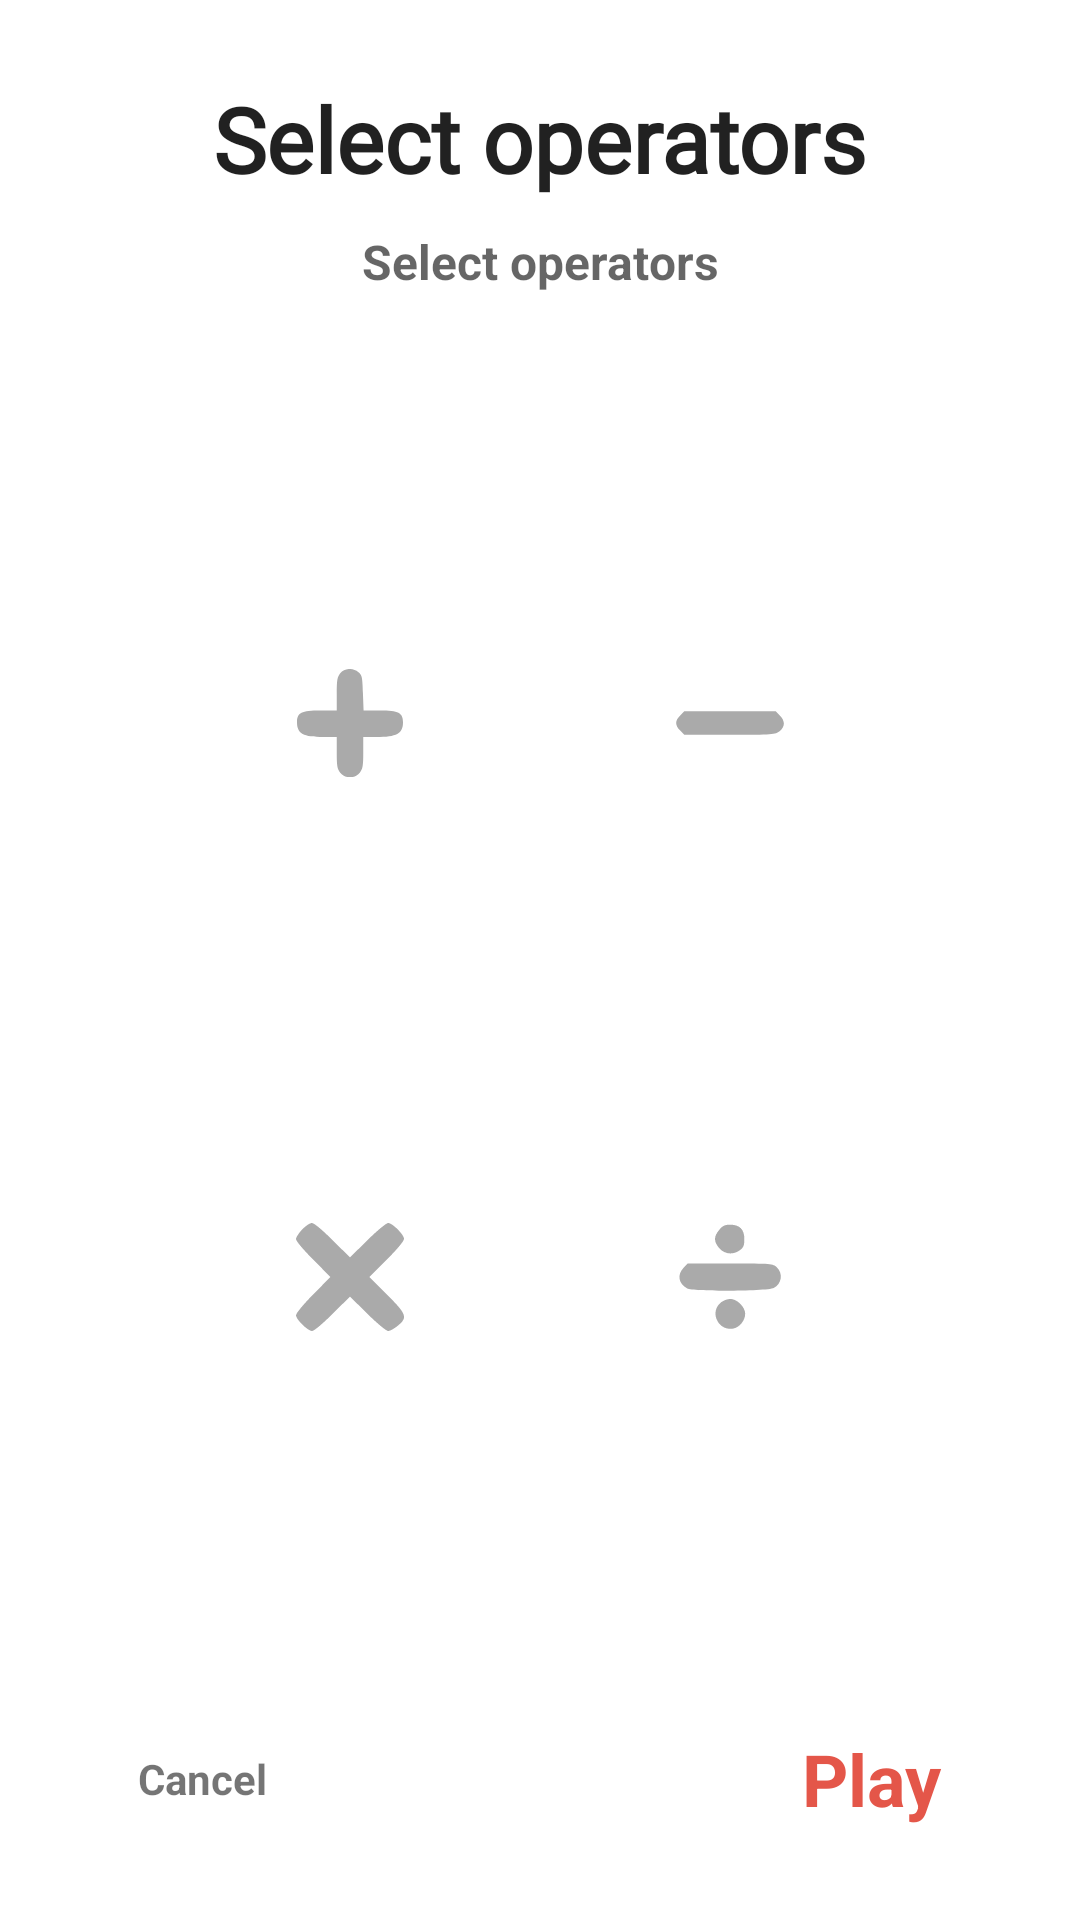

Where icons sit on this 1080px×1920px app screen, as bbox(x1, y1, x2, y2):
division: bbox(679, 1225, 781, 1329)
minus: bbox(676, 711, 784, 735)
multiply: bbox(296, 1223, 404, 1331)
plus: bbox(297, 669, 403, 777)
